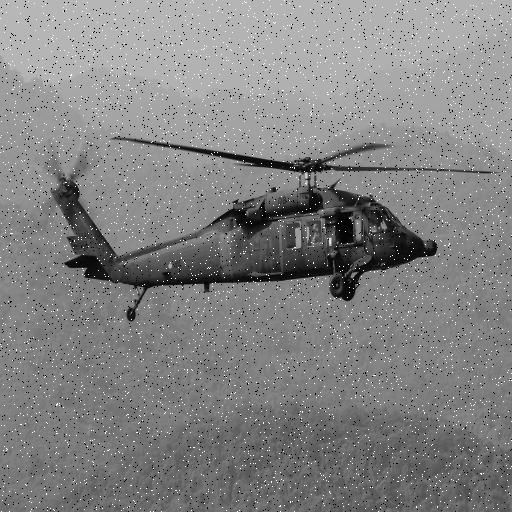helicopter: (32, 126, 498, 324)
